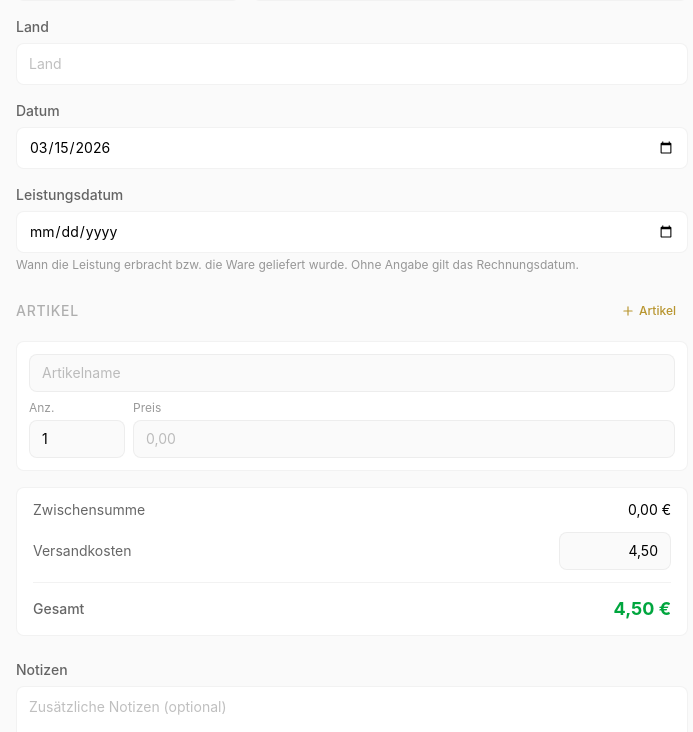
Scenario: orders/new — Auftrag anlegen › rechnet Zwischensumme, Versand und Gesamt in Cent
(page scrolled)
In the field with placeholder "Artikelname": (352, 373) [29,354,675,392], type "Vase"
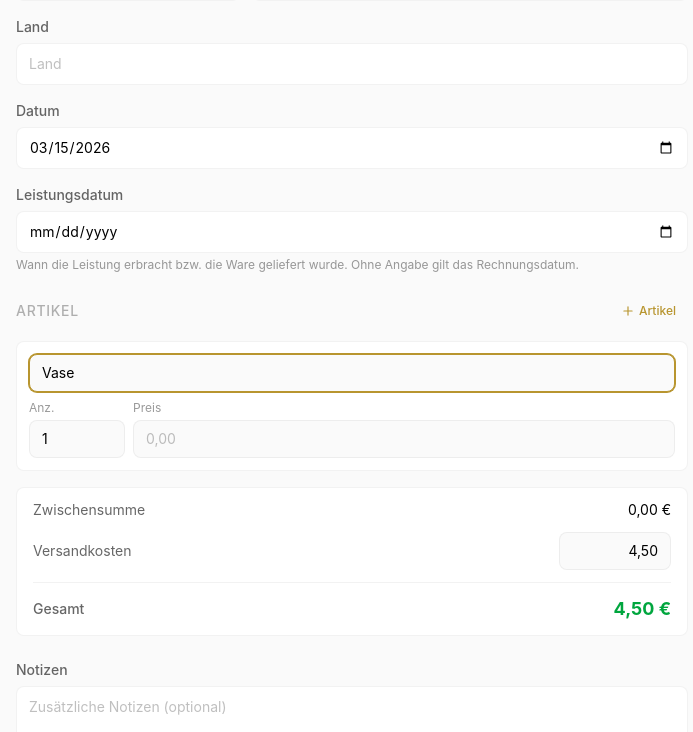
In the field with placeholder "0,00": (404, 439) [133,420,675,458], type "25,50"
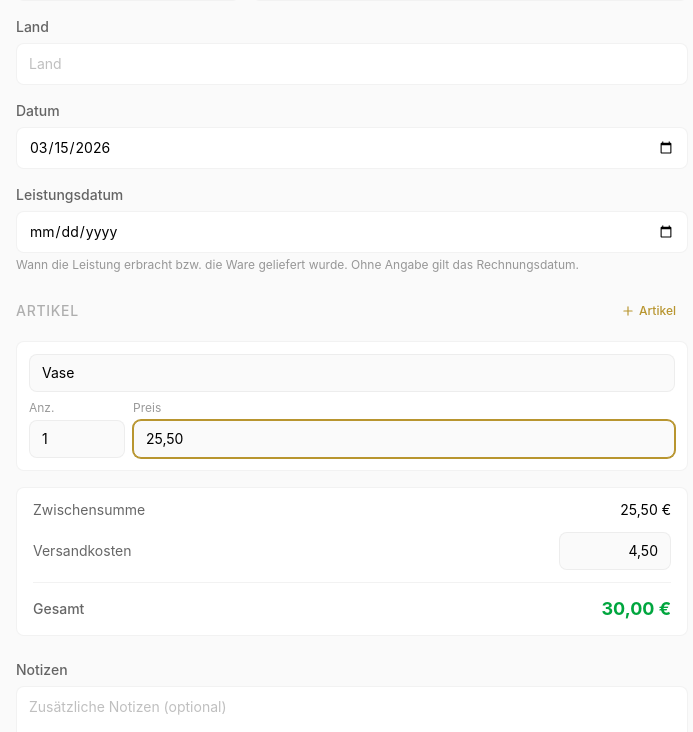
Now the text "25,50 €" is shown, box [620,500,671,520]
Now the text "30,00 €" is shown, box [601,595,671,623]
